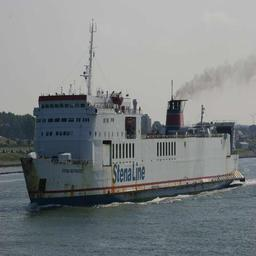Ship: (18, 73, 250, 207)
